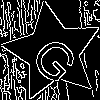G: (28, 27, 88, 87)
